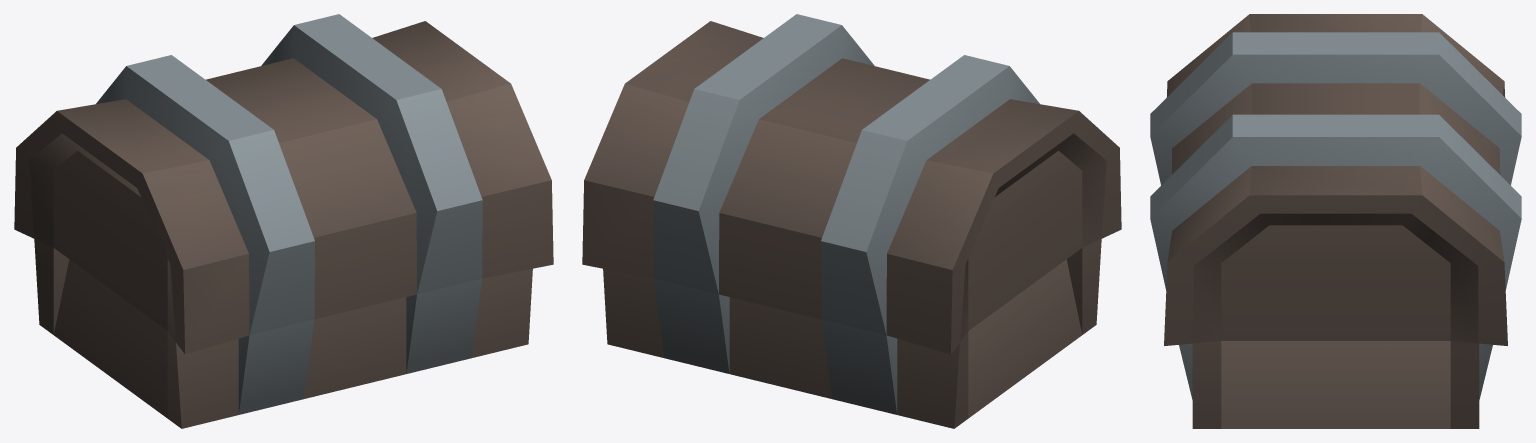
The model's file is trunk_large_B.gltf.
The picture shows the model from 3 angles, left to right: view 1: azimuth 30°, elevation 25°; view 2: azimuth 150°, elevation 25°; view 3: azimuth 270°, elevation 25°; orthographic projection.
Parts seen in each view (by area): view 1: trunk_large_B; view 2: trunk_large_B; view 3: trunk_large_B.
Boxes of the visible parts, bbox=[...] form: trunk_large_B: bbox=[14, 14, 553, 428]; trunk_large_B: bbox=[582, 14, 1121, 428]; trunk_large_B: bbox=[1150, 14, 1521, 428].
Bounding box in the file's own units: 1.5 × 1 × 1.3.
1 material, 1 textured.
